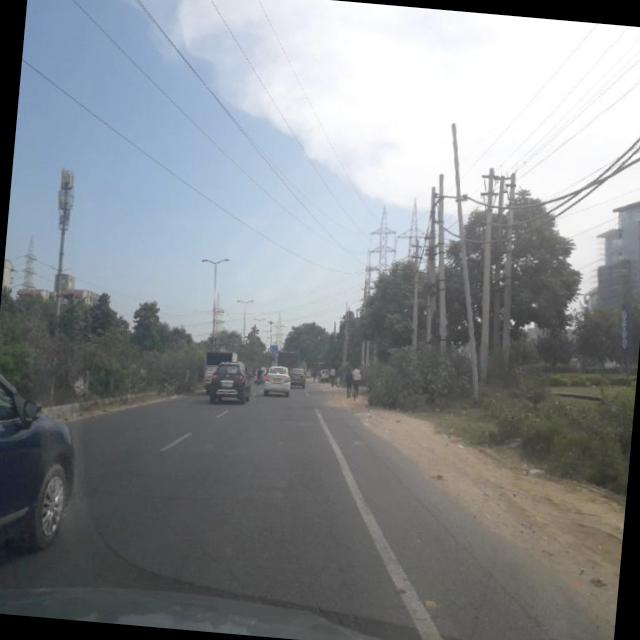crack: (179, 439, 382, 622)
